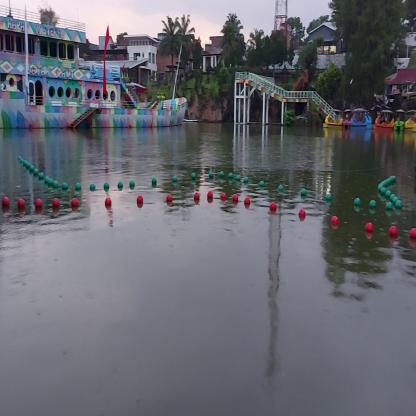green_buoy: (369, 199, 377, 207), (353, 196, 360, 205), (300, 187, 307, 195), (325, 192, 332, 200), (396, 198, 402, 207), (386, 201, 392, 210), (61, 181, 68, 188), (33, 168, 39, 175), (53, 179, 58, 187), (38, 172, 44, 178), (172, 175, 178, 181), (129, 179, 135, 185), (278, 184, 284, 190), (29, 164, 34, 171), (191, 172, 196, 178), (151, 177, 157, 182), (259, 180, 264, 186), (103, 182, 109, 187), (75, 182, 81, 187), (235, 174, 240, 179), (244, 176, 249, 181), (48, 178, 53, 183), (118, 180, 122, 186), (90, 184, 96, 188), (209, 171, 213, 176), (228, 172, 233, 176), (220, 171, 224, 175)
red_buoy: (364, 220, 374, 232), (388, 224, 399, 234), (1, 195, 10, 205), (51, 197, 60, 207), (409, 226, 416, 238), (104, 196, 113, 205), (17, 198, 26, 207), (34, 198, 43, 206), (269, 200, 277, 209), (332, 214, 338, 225), (70, 197, 79, 204), (232, 192, 238, 202), (166, 193, 174, 200), (298, 209, 306, 216), (220, 191, 227, 198), (193, 192, 200, 199), (136, 195, 144, 201), (244, 196, 250, 204), (207, 190, 212, 198)
